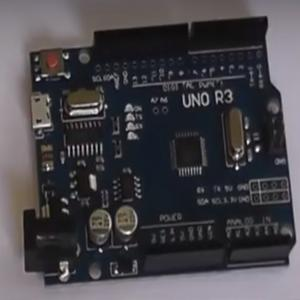duino: (15, 12, 293, 281)
